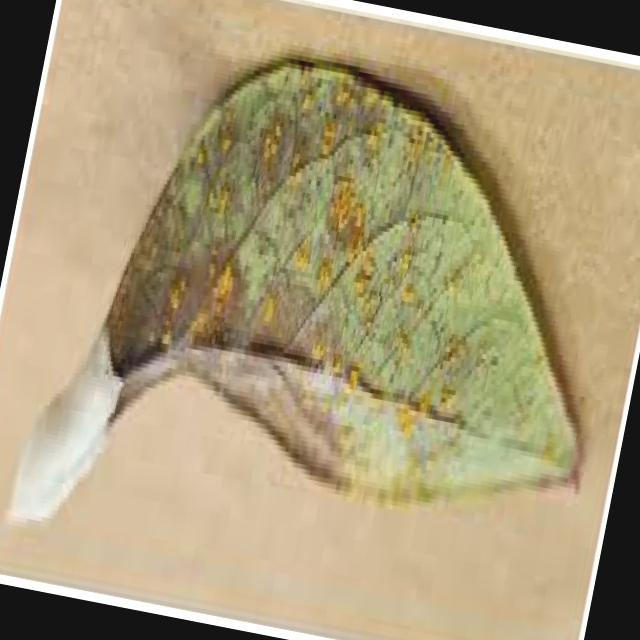leaf_rust: (8, 66, 577, 521)
